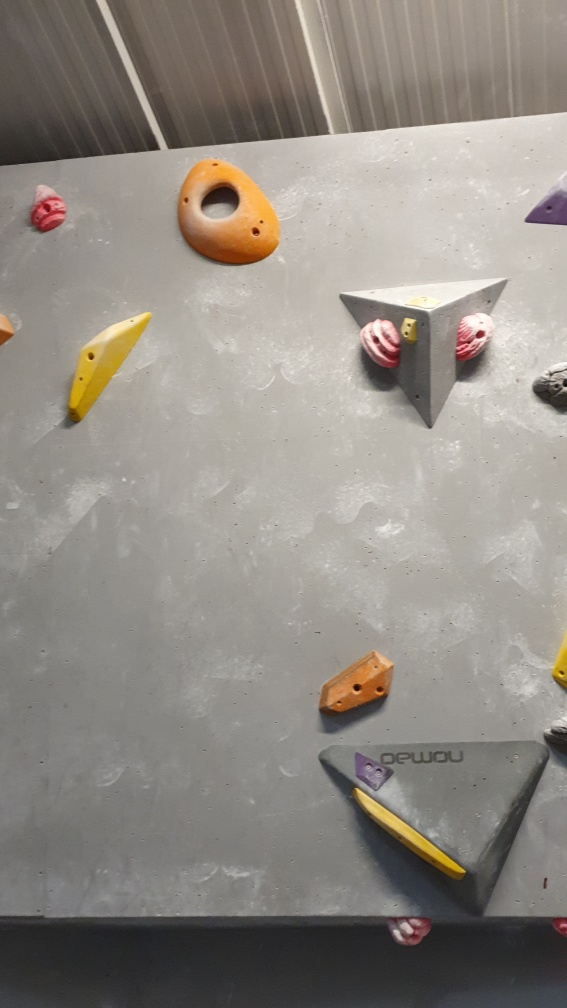Jug: (24, 176, 70, 234), (454, 311, 499, 367), (359, 318, 402, 373)
Pinch: (59, 308, 154, 421), (318, 645, 396, 719)
Pocket: (175, 159, 285, 269)
